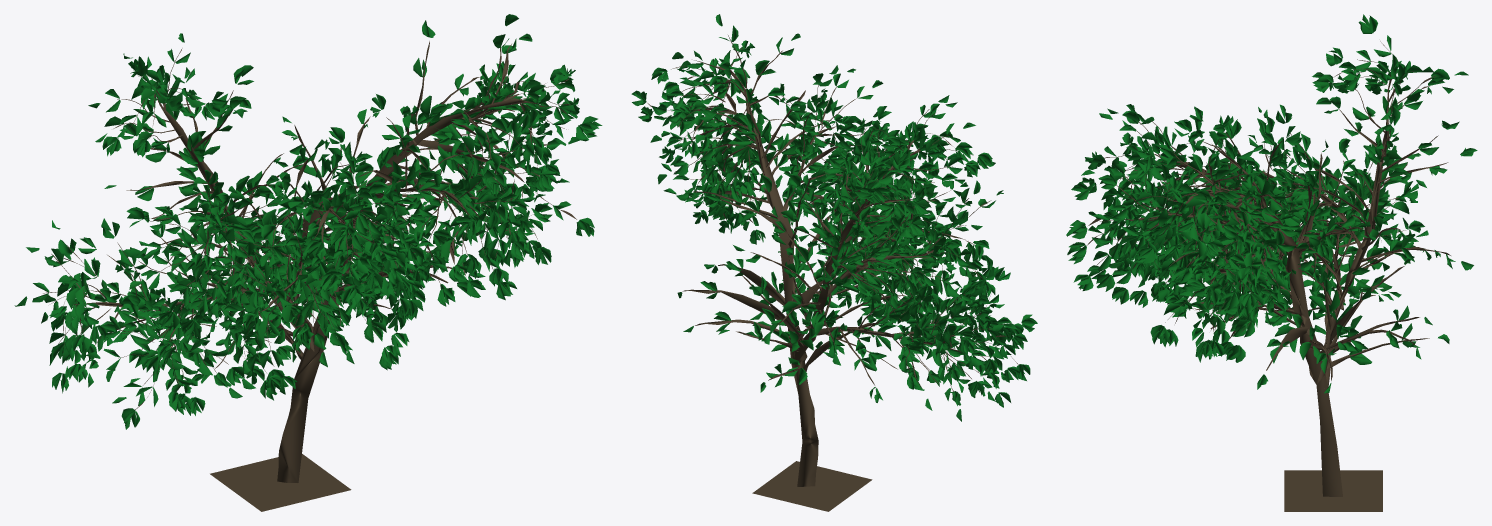
File: Tree 1x1.fbx
3 renders of one model, left to right at view 1: azimuth 30°, elevation 25°; view 2: azimuth 150°, elevation 25°; view 3: azimuth 270°, elevation 25°, orthographic. The views are drawn at different scales.
Parts seen in each view (by area): view 1: pPlane2; view 2: pPlane2; view 3: pPlane2.
Boxes of the visible parts, x1,y1,x2,y2 form: pPlane2: (14,14,602,511); pPlane2: (631,14,1037,511); pPlane2: (1066,14,1477,511).
Size of the model in its own units: 67.14 by 62.47 by 52.14.
